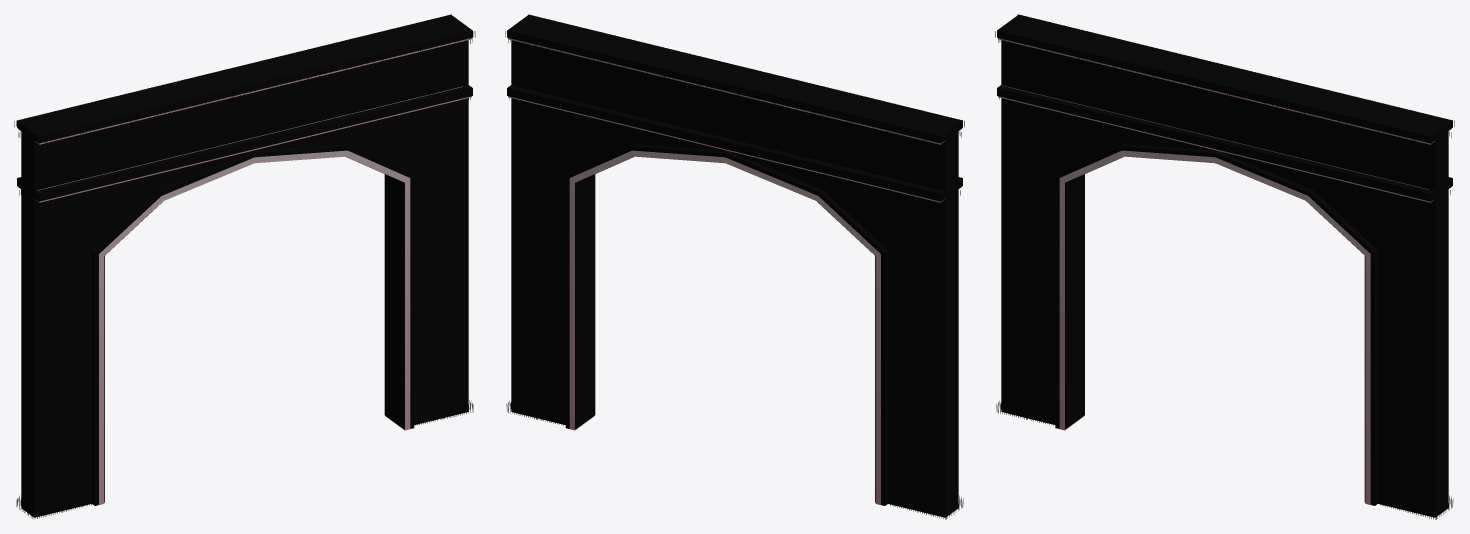
The model's file is pm-arc.glb.
3 renders of one model, left to right at view 1: azimuth 30°, elevation 25°; view 2: azimuth 150°, elevation 25°; view 3: azimuth 330°, elevation 25°, orthographic.
Visible parts, largest first — view 1: Arc; view 2: Arc; view 3: Arc.
Part boxes in pixels (x1=…): Arc: x1=14, y1=14, x2=475, y2=519; Arc: x1=505, y1=14, x2=964, y2=519; Arc: x1=995, y1=14, x2=1454, y2=519.
Bounding box in the file's own units: 4.24 × 3.55 × 0.3865.
Materials: 3 (2 with a texture image).
